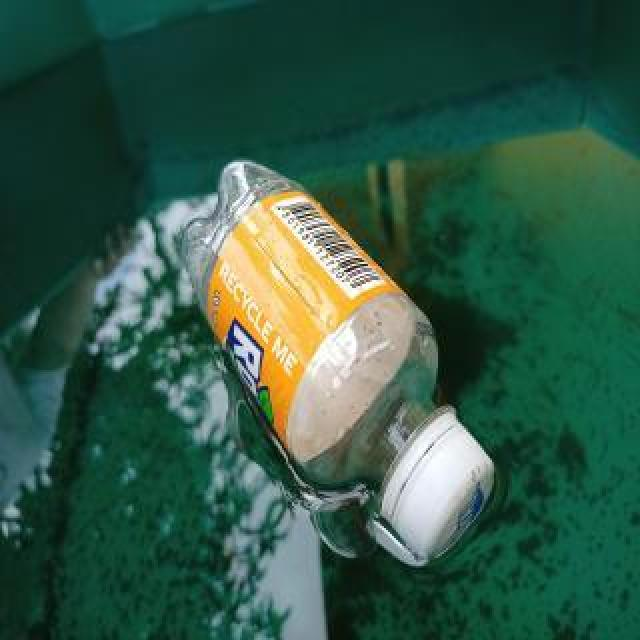bottle: (181, 154, 499, 568)
